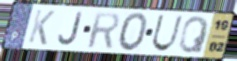J: (57, 11, 85, 47)
K: (26, 8, 57, 47)
O: (117, 11, 149, 53)
Q: (177, 15, 211, 54)
R: (86, 10, 121, 50)
U: (150, 13, 185, 53)
